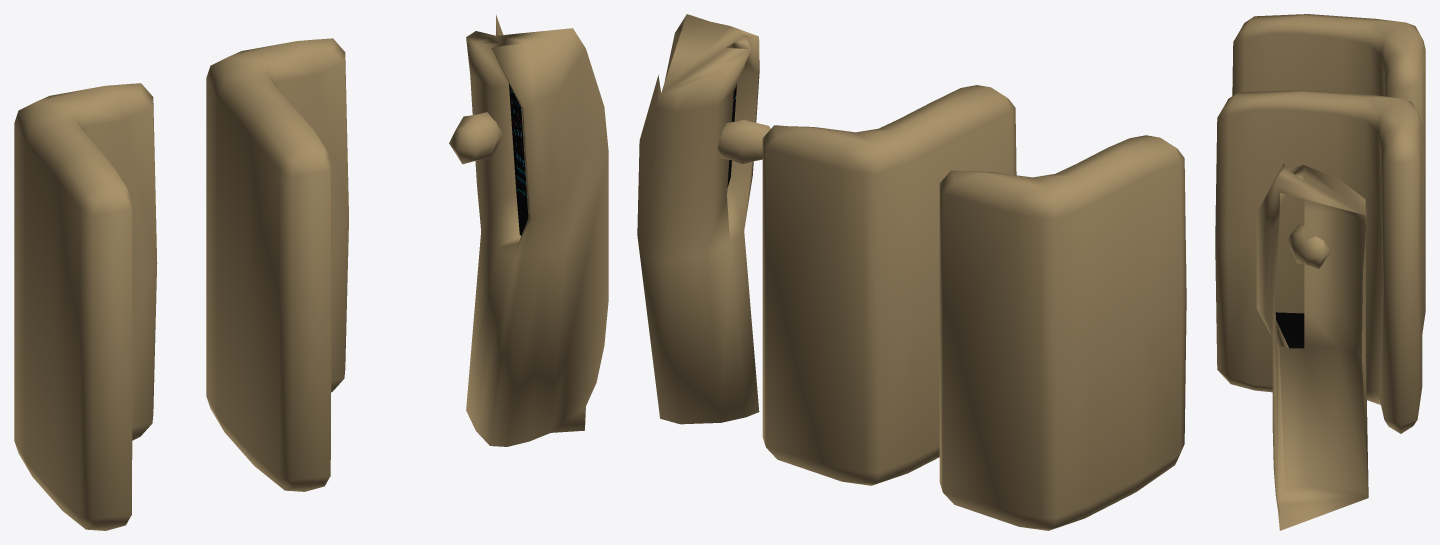
File: interior.obj
The picture shows the model from 3 angles, left to right: view 1: azimuth 30°, elevation 25°; view 2: azimuth 150°, elevation 25°; view 3: azimuth 270°, elevation 25°; orthographic projection. The views are drawn at different scales.
Visible parts, largest first — view 1: chair09, chair08, Box02, steering_column, panel; view 2: chair08, chair09, Box02, steering_column; view 3: chair09, Box02, chair08, steering_column, panel.
Boxes of the visible parts, <box> form: chair09: <box>206,38,348,491</box>; chair08: <box>14,83,157,530</box>; Box02: <box>466,15,608,446</box>; steering_column: <box>449,112,503,164</box>; panel: <box>509,84,528,235</box>; chair08: <box>939,135,1186,530</box>; chair09: <box>762,85,1016,485</box>; Box02: <box>637,14,759,424</box>; steering_column: <box>718,119,770,164</box>; chair09: <box>1215,90,1422,433</box>; Box02: <box>1256,163,1368,530</box>; chair08: <box>1232,14,1425,333</box>; steering_column: <box>1287,224,1330,268</box>; panel: <box>1275,312,1304,348</box>.
Bounding box in the file's own units: 2.31 × 1.65 × 0.9464.
Materials: 3 (1 with a texture image).
